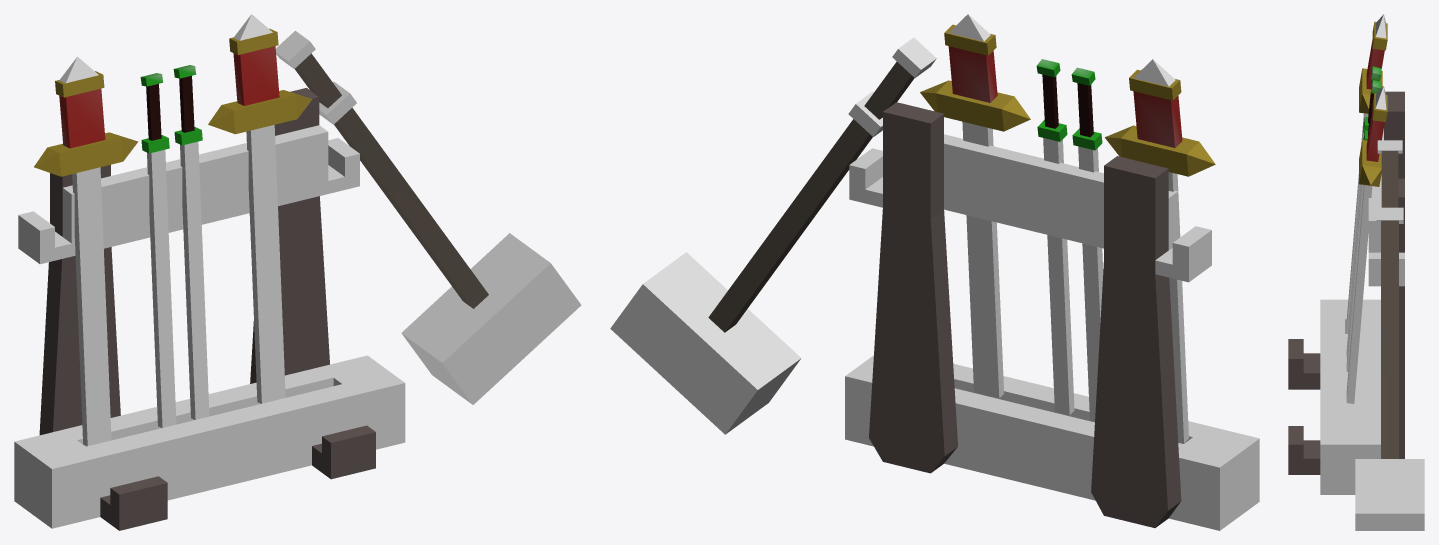
The model's file is GuardaarmasLOD.fbx.
The picture shows the model from 3 angles, left to right: view 1: azimuth 30°, elevation 25°; view 2: azimuth 150°, elevation 25°; view 3: azimuth 270°, elevation 25°; orthographic projection. The views are drawn at different scales.
Visible parts, largest first — view 1: Armas_LOD0; view 2: Armas_LOD0; view 3: Armas_LOD0.
Part boxes in pixels (x1,y1,x2,y2): Armas_LOD0: [14, 14, 581, 530]; Armas_LOD0: [610, 14, 1259, 530]; Armas_LOD0: [1288, 14, 1424, 530].
Size of what is drawn, in the model's own units: 216 by 161 by 54.96.
